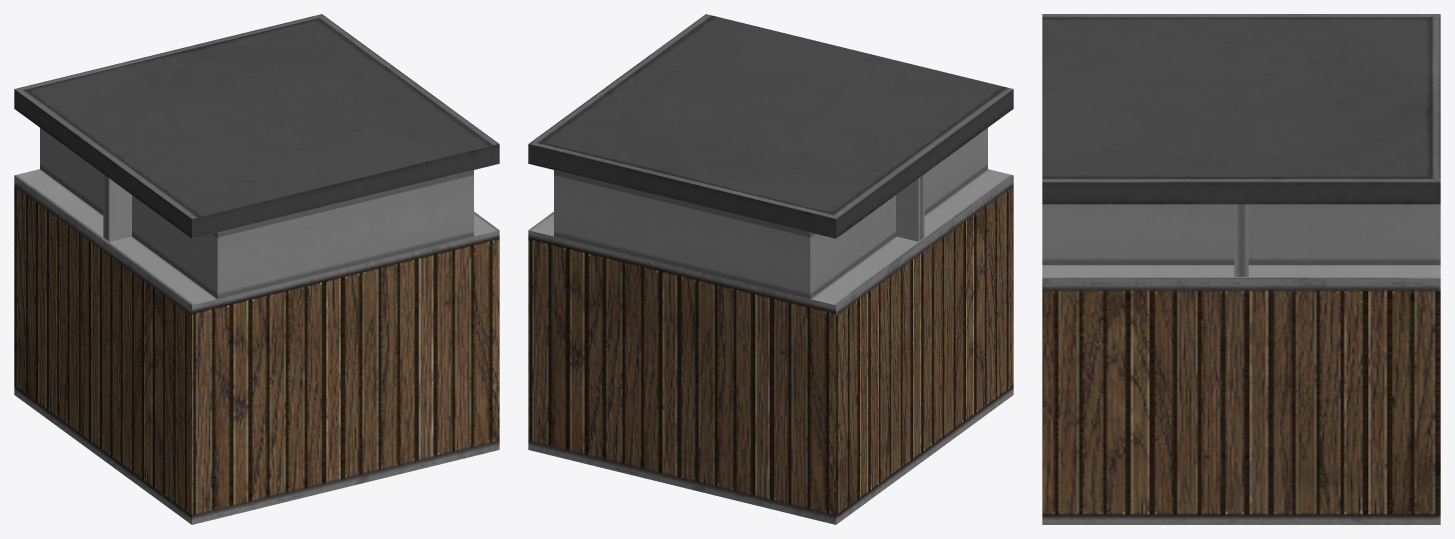
File: HH_Information_Desk_Module_1m.fbx
3 renders of one model, left to right at view 1: azimuth 30°, elevation 25°; view 2: azimuth 150°, elevation 25°; view 3: azimuth 270°, elevation 25°, orthographic. The views are drawn at different scales.
Visible parts, largest first — view 1: HH_Information_Desk_Module_1m; view 2: HH_Information_Desk_Module_1m; view 3: HH_Information_Desk_Module_1m.
Boxes of the visible parts, x1,y1,x2,y2 form: HH_Information_Desk_Module_1m: (14, 14, 499, 524); HH_Information_Desk_Module_1m: (528, 14, 1013, 524); HH_Information_Desk_Module_1m: (1042, 14, 1440, 524).
Bounding box in the file's own units: 100 × 95 × 100.
